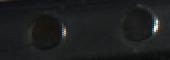joints: (113, 1, 160, 45), (24, 10, 68, 52)
